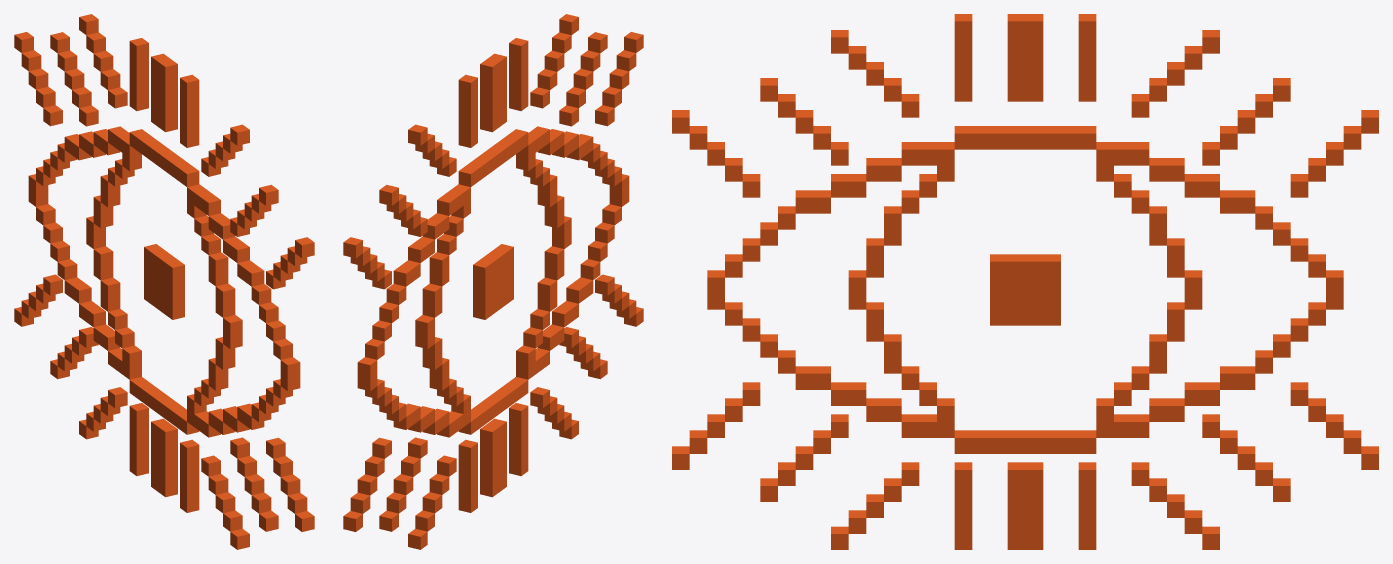
The model's file is Factory Bits-2-Sticker2.obj.
3 views of the same model, side by side, from view 1: azimuth 30°, elevation 25°; view 2: azimuth 150°, elevation 25°; view 3: azimuth 270°, elevation 25° (orthographic). The views are drawn at different scales.
Parts seen in each view (by area): view 1: Sticker2; view 2: Sticker2; view 3: Sticker2.
Part boxes in pixels (x1,y1,x2,y2): Sticker2: [14, 14, 314, 549]; Sticker2: [343, 14, 643, 549]; Sticker2: [672, 14, 1378, 549].
Bounding box in the file's own units: 0.1 × 3.3 × 4.
Materials: 1 (1 with a texture image).
